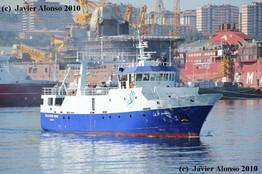otherboat: (39, 20, 224, 140)
